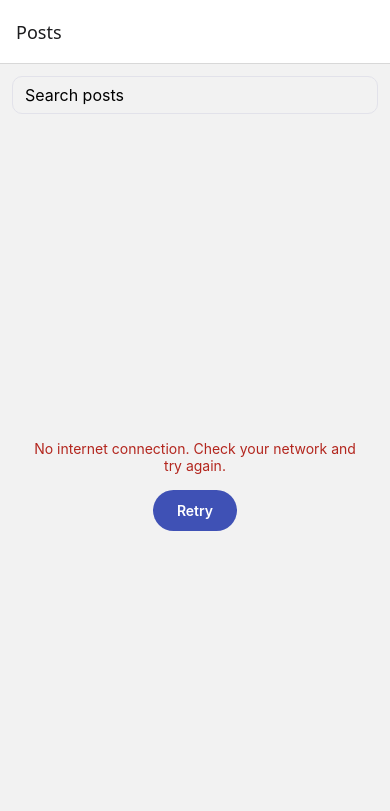
Test: shows the error with Retry, and Retry recovers
This screenshot has width=390, height=811.
Check: the text "No internet connection. Check your network and try again." is shown, box left=24, top=440, right=366, bottom=474
Click the button "Retry". click: (195, 510)
box: left=153, top=490, right=237, bottom=530
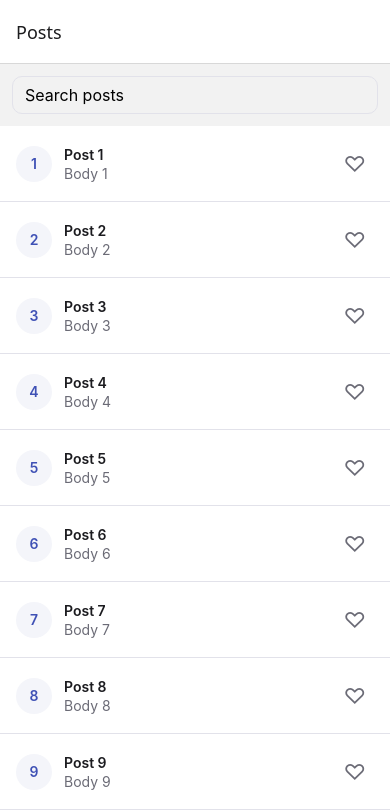
Check: the text "Post 1" is shown, box left=64, top=146, right=104, bottom=162
